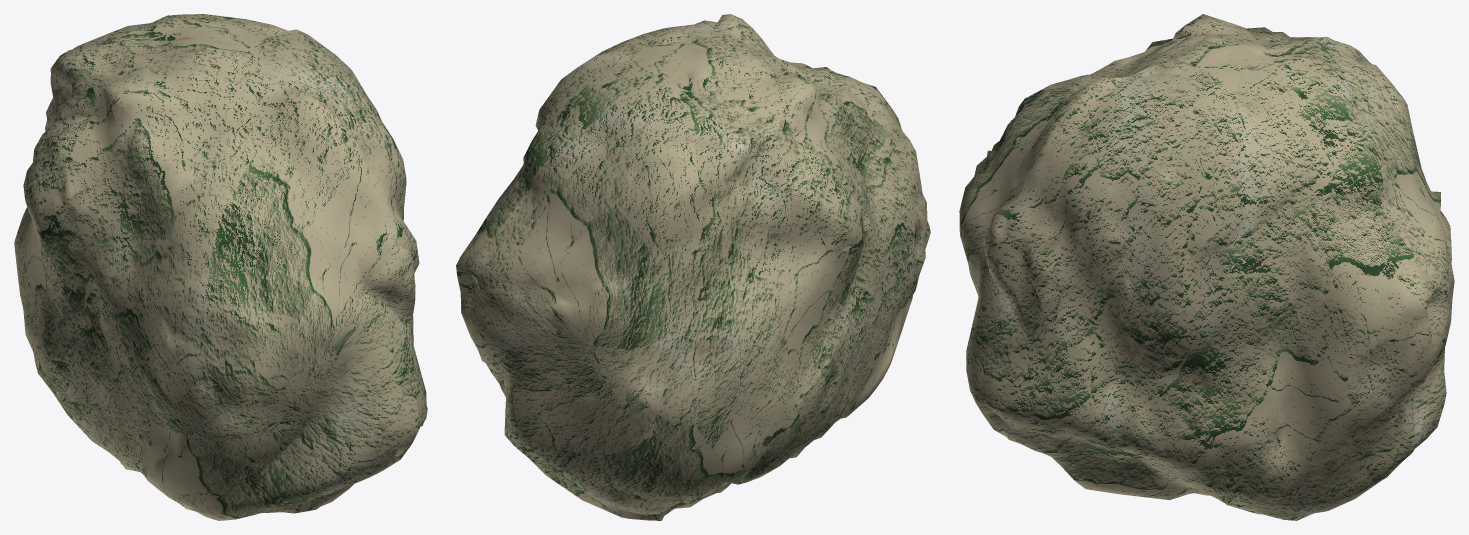
File: rock2.fbx
3 renders of one model, left to right at view 1: azimuth 30°, elevation 25°; view 2: azimuth 150°, elevation 25°; view 3: azimuth 270°, elevation 25°, orthographic. The views are drawn at different scales.
Visible parts, largest first — view 1: rock1_low; view 2: rock1_low; view 3: rock1_low.
Part boxes in pixels (x1,y1,x2,y2): rock1_low: (14, 14, 427, 520); rock1_low: (456, 14, 930, 520); rock1_low: (959, 14, 1454, 520).
Bounding box in the file's own units: 71.99 × 93.44 × 93.07.
